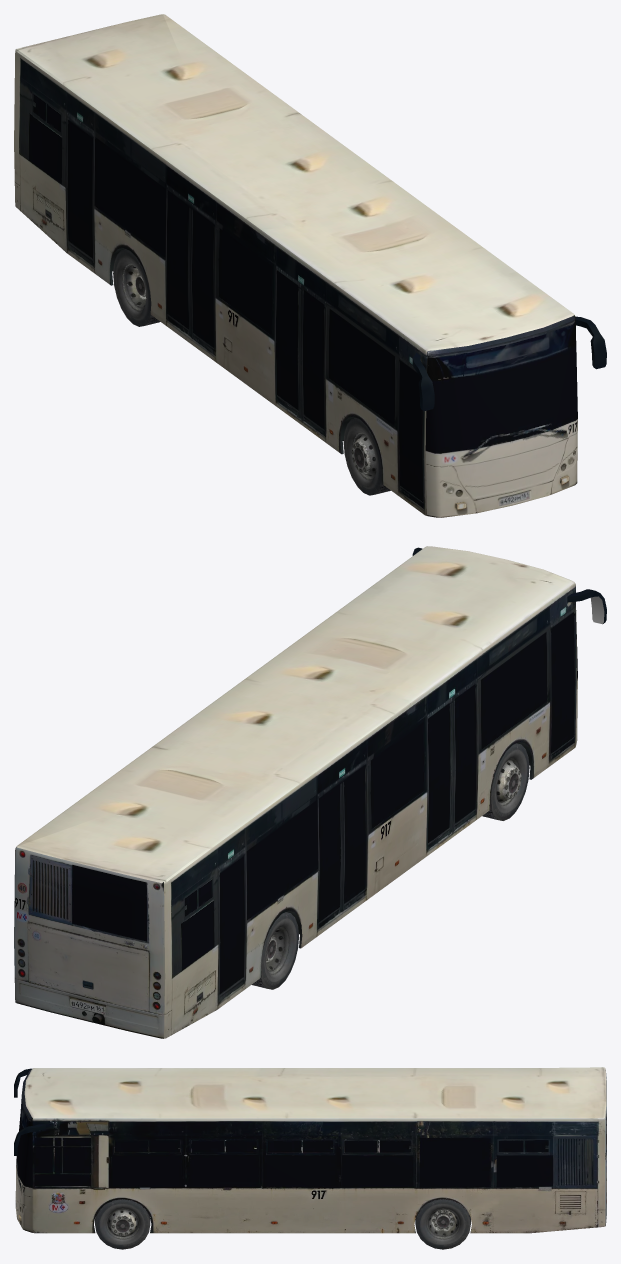
Rendered from bus.glb.
The picture shows the model from 3 angles, top to bottom: view 1: azimuth 30°, elevation 25°; view 2: azimuth 150°, elevation 25°; view 3: azimuth 270°, elevation 25°; orthographic projection. The views are drawn at different scales.
Parts seen in each view (by area): view 1: body, wheel_rr_wheel_rr_buswheel_0, wheel_fr_wheel_fr_buswheel_0; view 2: body, wheel_fr_wheel_fr_buswheel_0, wheel_rr_wheel_rr_buswheel_0; view 3: body, wheel_fl_wheel_fl_buswheel_0, wheel_rl_wheel_rl_buswheel_0.
Boxes of the visible parts, box(x1,y1,x2,y2) form: body: box(14, 14, 606, 517); wheel_rr_wheel_rr_buswheel_0: box(113, 249, 160, 326); wheel_fr_wheel_fr_buswheel_0: box(343, 418, 390, 495); body: box(14, 546, 606, 1038); wheel_fr_wheel_fr_buswheel_0: box(482, 743, 529, 820); wheel_rr_wheel_rr_buswheel_0: box(252, 912, 298, 989); body: box(14, 1067, 606, 1233); wheel_fl_wheel_fl_buswheel_0: box(95, 1199, 150, 1249); wheel_rl_wheel_rl_buswheel_0: box(415, 1199, 470, 1249).
Bounding box in the file's own units: 3 × 2.96 × 12.
3 materials, 2 textured.
